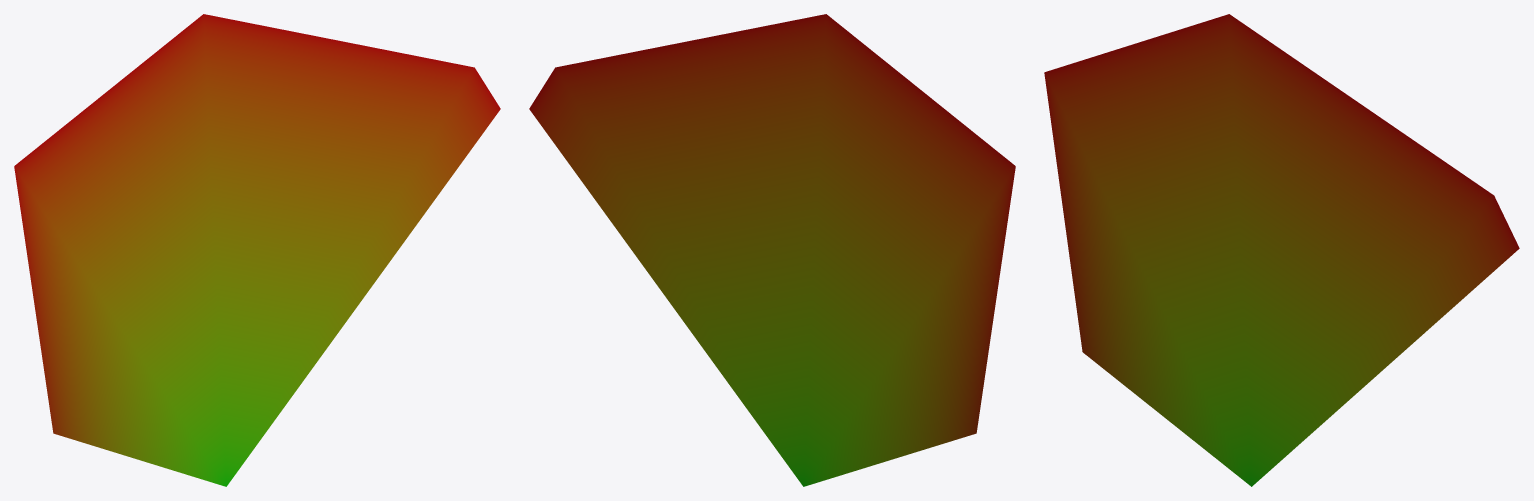
Rendered from Black Locust_LOD4_Var5.fbx.
The picture shows the model from 3 angles, left to right: view 1: azimuth 30°, elevation 25°; view 2: azimuth 150°, elevation 25°; view 3: azimuth 330°, elevation 25°; orthographic projection. The views are drawn at different scales.
Parts seen in each view (by area): view 1: _7f3o_Var5_LOD4; view 2: _7f3o_Var5_LOD4; view 3: _7f3o_Var5_LOD4.
Boxes of the visible parts, x1,y1,x2,y2 form: _7f3o_Var5_LOD4: (14,14,500,486); _7f3o_Var5_LOD4: (529,14,1015,486); _7f3o_Var5_LOD4: (1044,14,1519,486).
Size of the model in its own units: 21.26 by 19.98 by 4.37e-11.
